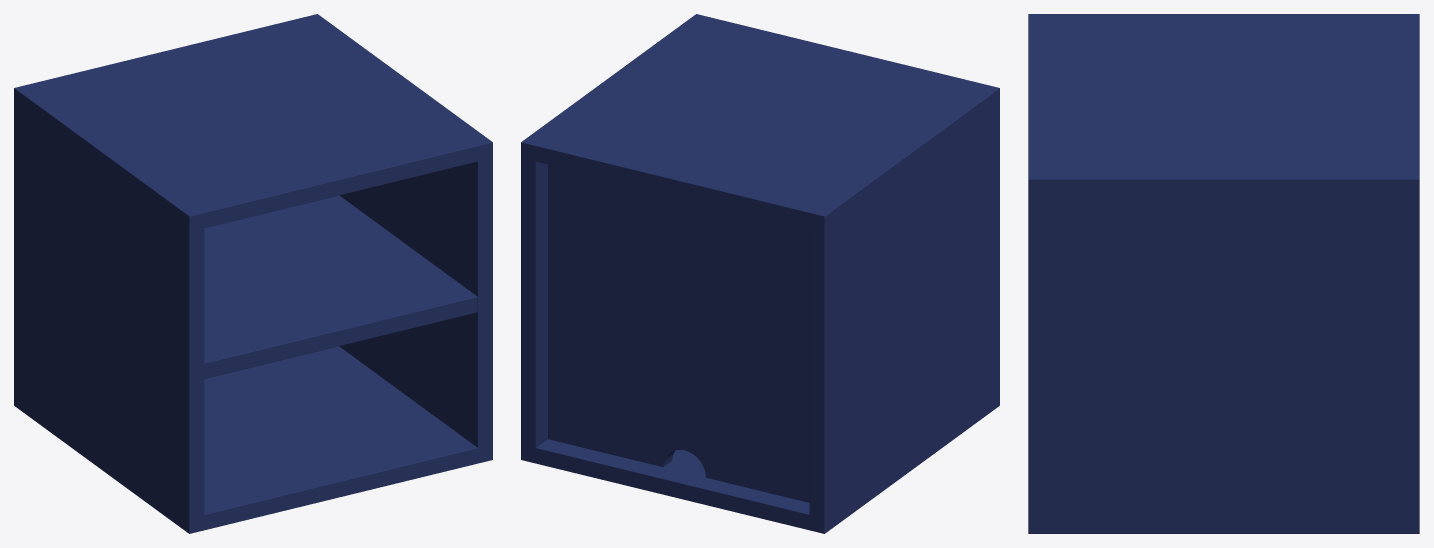
The model's file is MOD_1X1_S_B_AP_AF.glb.
3 renders of one model, left to right at view 1: azimuth 30°, elevation 25°; view 2: azimuth 150°, elevation 25°; view 3: azimuth 270°, elevation 25°, orthographic. The views are drawn at different scales.
Size of the model in its own units: 360 by 360 by 360.
